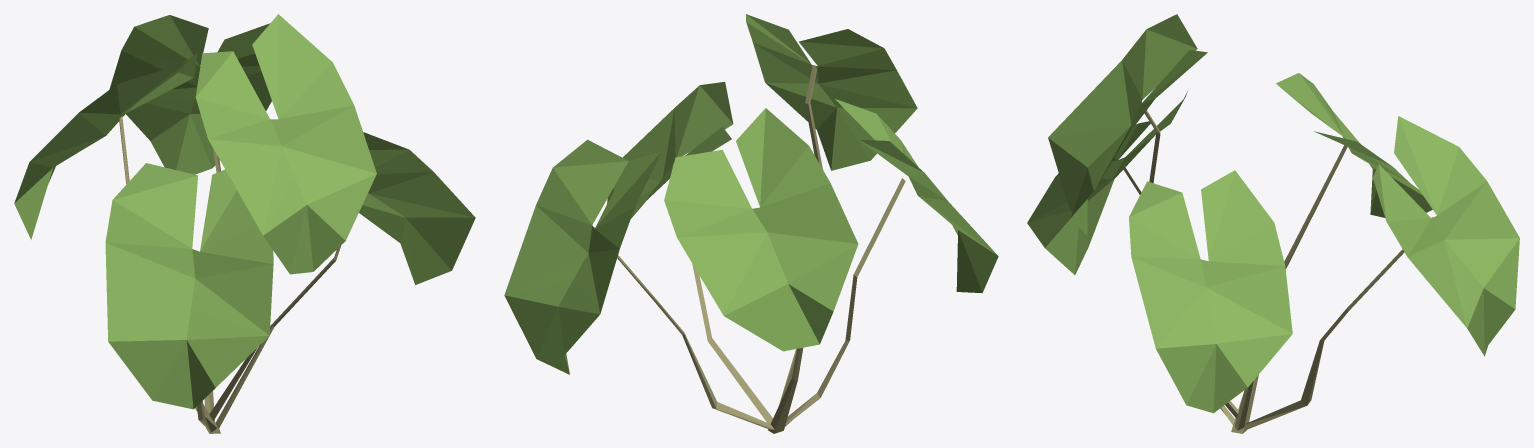
File: PhilodendronSelloum.glb
3 views of the same model, side by side, from view 1: azimuth 30°, elevation 25°; view 2: azimuth 150°, elevation 25°; view 3: azimuth 270°, elevation 25° (orthographic). The views are drawn at different scales.
Visible parts, largest first — view 1: Crown, Trunk; view 2: Crown, Trunk; view 3: Crown, Trunk.
Boxes of the visible parts, x1,y1,x2,y2 form: Crown: [14, 14, 475, 409]; Trunk: [119, 116, 341, 433]; Crown: [504, 14, 998, 374]; Trunk: [593, 65, 905, 433]; Crown: [1027, 14, 1519, 413]; Trunk: [1121, 102, 1432, 433].
Size of the model in its own units: 1.46 by 1.49 by 1.66.
